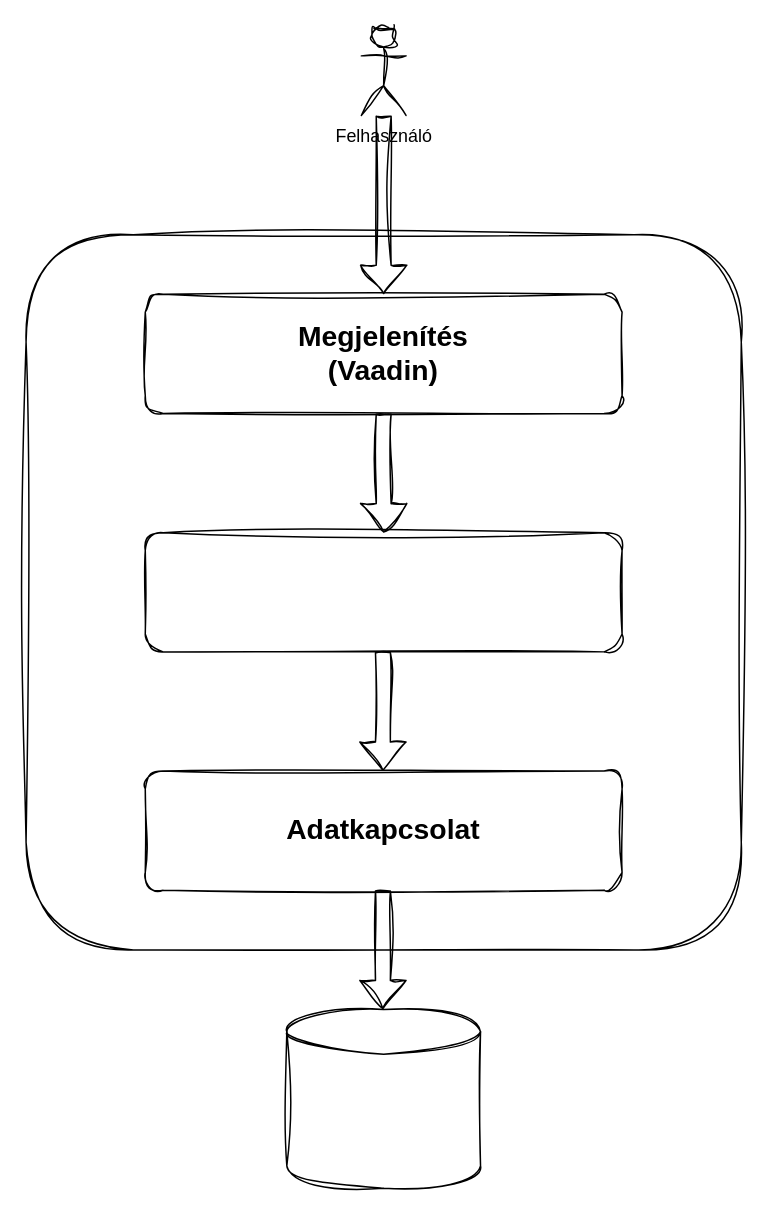
This 767x1214 diagram has some shape labels left out. Here are the shapes that lost their labels. From the top down, the centre of each, then its label:
At (x=383, y=591): "Üzleti logika".
At (x=383, y=1098): "Adatbázis (H2)".
